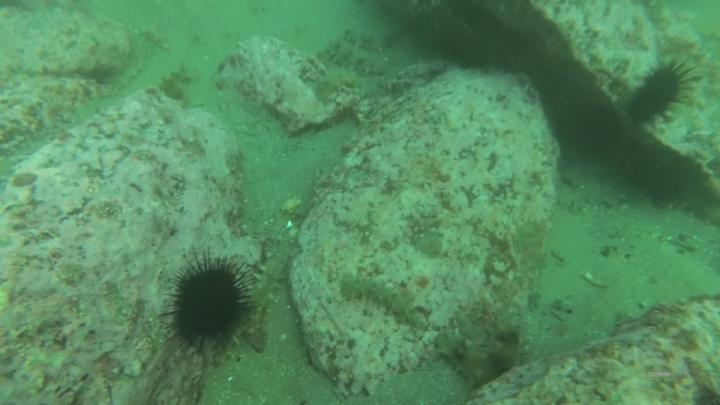echinus: (162, 243, 262, 362), (628, 49, 704, 129)
holothurian: (339, 272, 424, 331), (432, 325, 497, 389), (328, 40, 386, 76), (316, 62, 364, 103), (159, 62, 196, 104), (346, 26, 404, 50)
